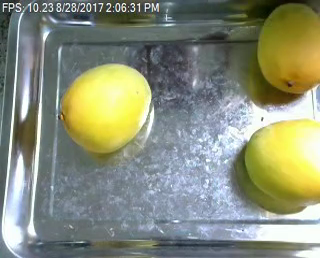Mango: (59, 61, 156, 154), (245, 117, 320, 205), (254, 2, 320, 95)
